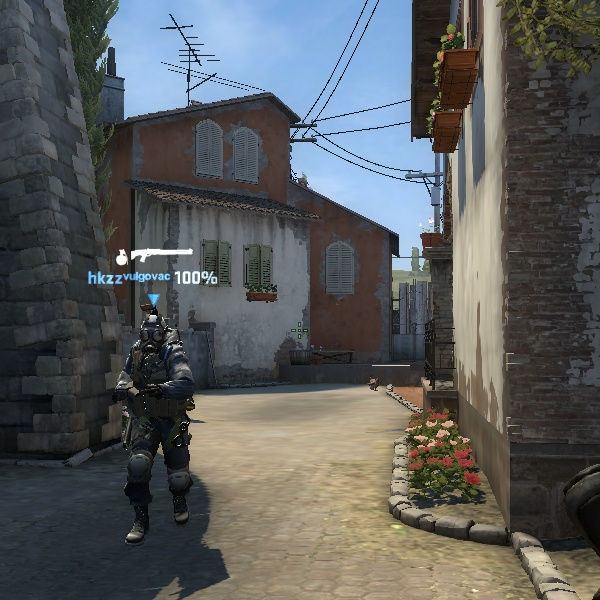ct_body: (85, 302, 215, 548)
ct_head: (129, 304, 181, 356)
